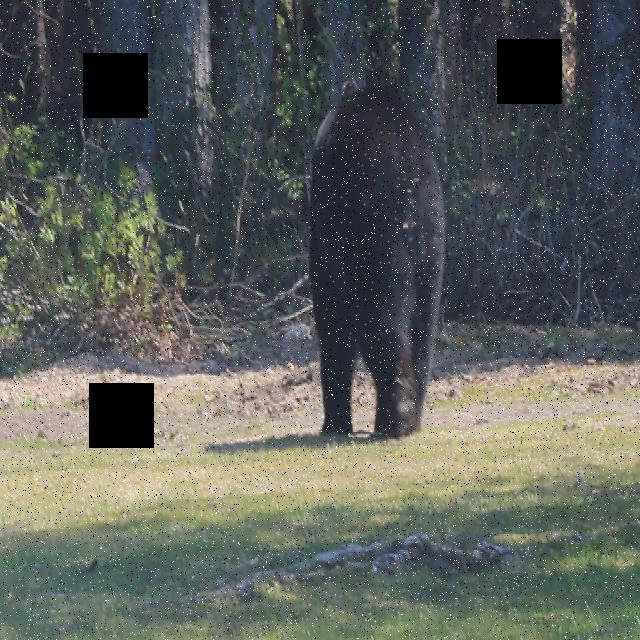Bear: (307, 71, 450, 451)
